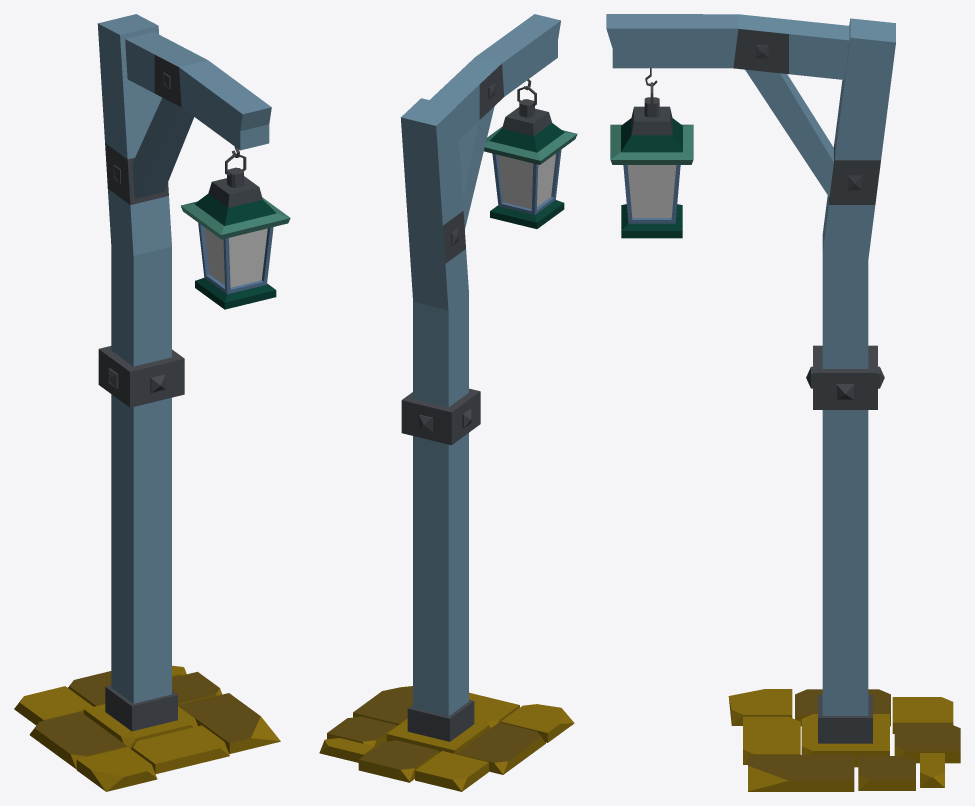
Rendered from SM_Lamp_01_A.gltf.
The picture shows the model from 3 angles, left to right: view 1: azimuth 30°, elevation 25°; view 2: azimuth 150°, elevation 25°; view 3: azimuth 270°, elevation 25°; orthographic projection. The views are drawn at different scales.
Visible parts, largest first — view 1: SM_Lamp_01_A; view 2: SM_Lamp_01_A; view 3: SM_Lamp_01_A.
Boxes of the visible parts, x1=… form: SM_Lamp_01_A: x1=14, y1=14, x2=290, y2=791; SM_Lamp_01_A: x1=319, y1=14, x2=577, y2=791; SM_Lamp_01_A: x1=606, y1=14, x2=960, y2=791.
Size of the model in its own units: 0.6371 by 2.36 by 1.04.
